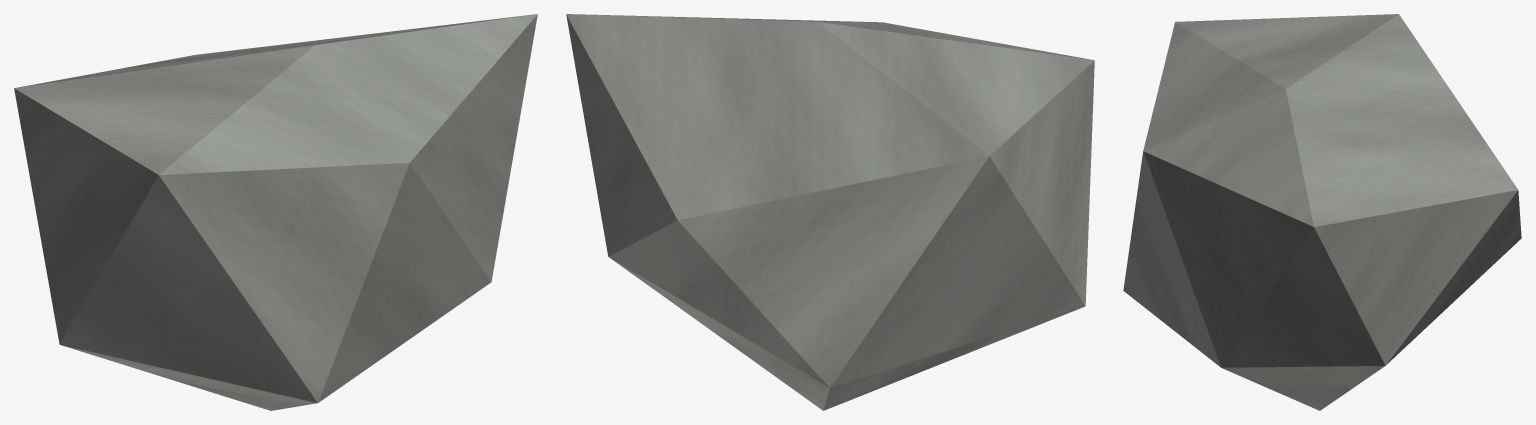
The model's file is rock_01.glb.
3 views of the same model, side by side, from view 1: azimuth 30°, elevation 25°; view 2: azimuth 150°, elevation 25°; view 3: azimuth 270°, elevation 25° (orthographic). The views are drawn at different scales.
Parts seen in each view (by area): view 1: rock_01; view 2: rock_01; view 3: rock_01.
Part boxes in pixels (left/top/right/bottom): rock_01: left=14, top=14, right=537, bottom=410; rock_01: left=566, top=14, right=1094, bottom=410; rock_01: left=1123, top=14, right=1521, bottom=410.
Bounding box in the file's own units: 0.7868 × 0.5597 × 0.6071.
1 material, 1 textured.
